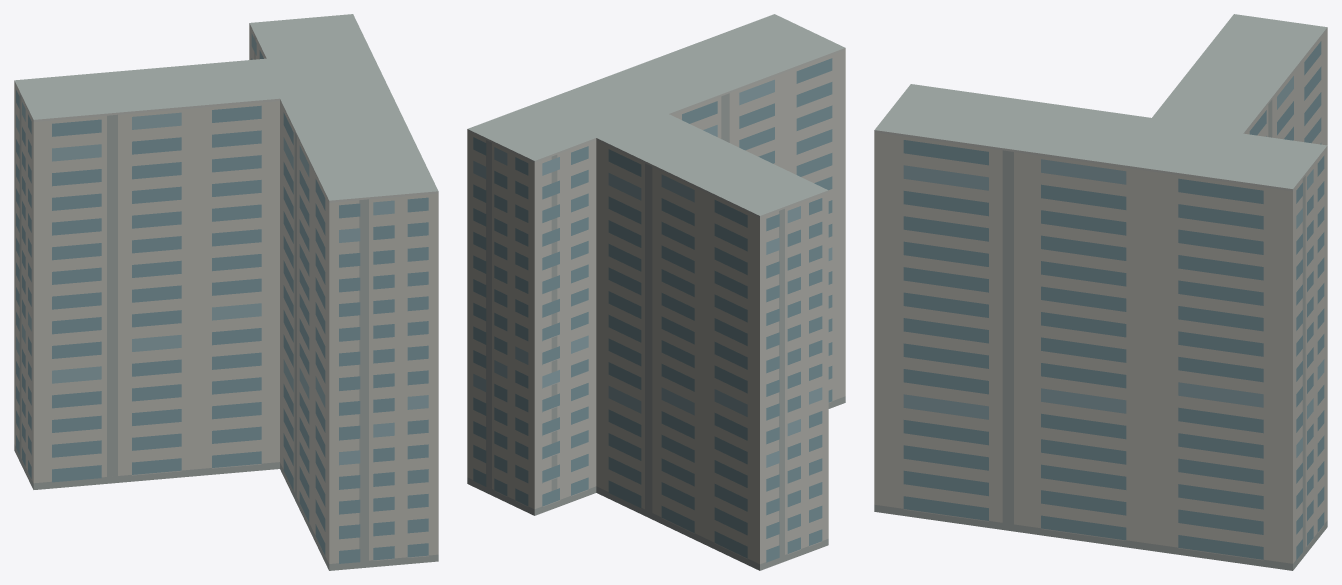
The model's file is residential-fb8cf619-c3f5-4587-9332-31621d3c78e4.glb.
3 renders of one model, left to right at view 1: azimuth 30°, elevation 25°; view 2: azimuth 150°, elevation 25°; view 3: azimuth 270°, elevation 25°, orthographic. The views are drawn at different scales.
Visible parts, largest first — view 1: residential-fb8cf619-c3f5-4587-9332-31621d3c78e4.tmp; view 2: residential-fb8cf619-c3f5-4587-9332-31621d3c78e4.tmp; view 3: residential-fb8cf619-c3f5-4587-9332-31621d3c78e4.tmp.
Boxes of the visible parts, left/top/right/bottom form: residential-fb8cf619-c3f5-4587-9332-31621d3c78e4.tmp: left=14, top=14, right=438, bottom=570; residential-fb8cf619-c3f5-4587-9332-31621d3c78e4.tmp: left=467, top=14, right=845, bottom=570; residential-fb8cf619-c3f5-4587-9332-31621d3c78e4.tmp: left=874, top=14, right=1327, bottom=570.
Bounding box in the file's own units: 42.33 × 43 × 46.26.
